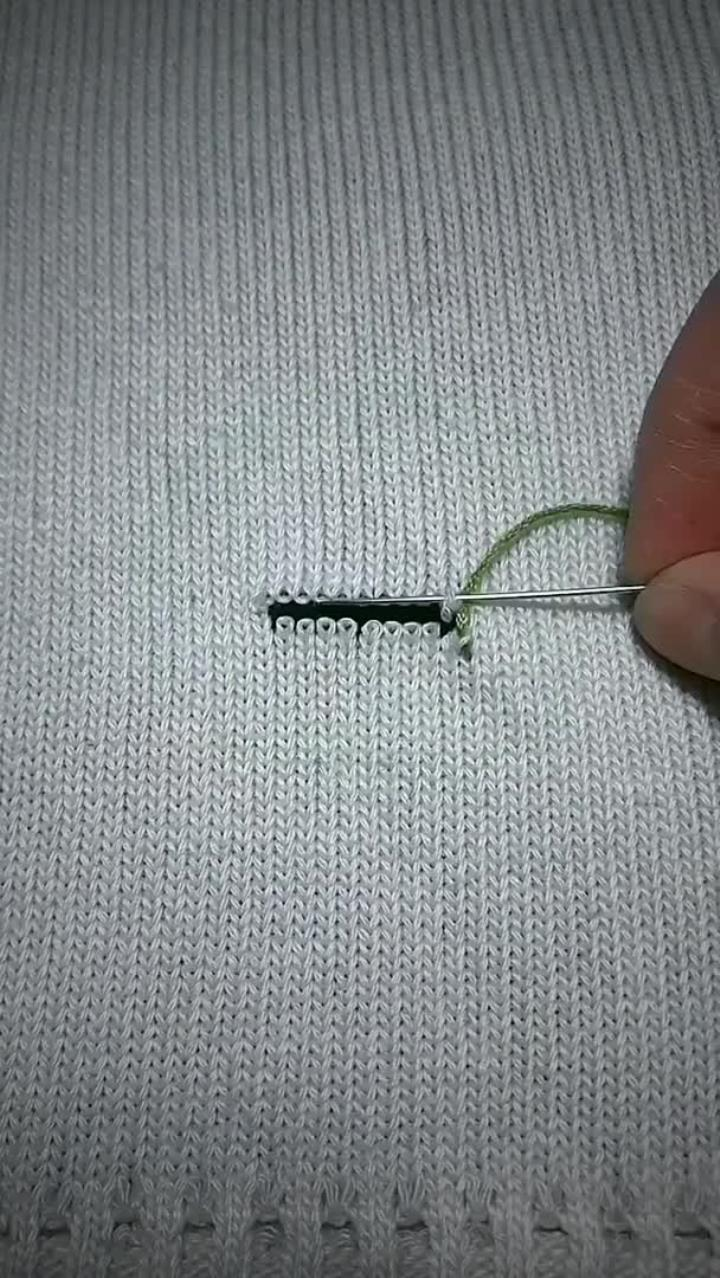missing_stitch_1: (254, 582, 465, 637)
